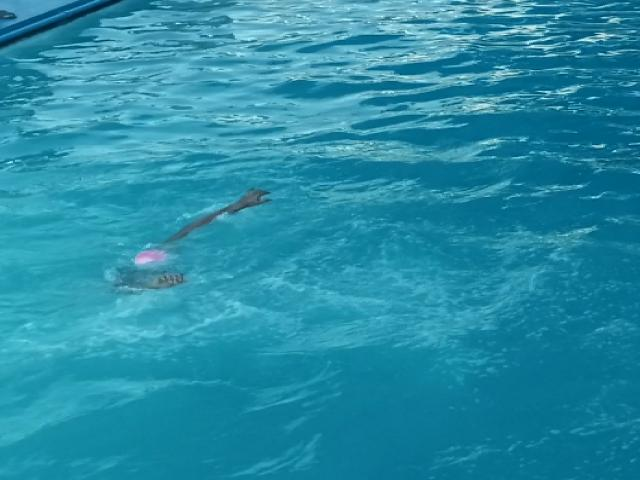drowning: (96, 186, 272, 293)
